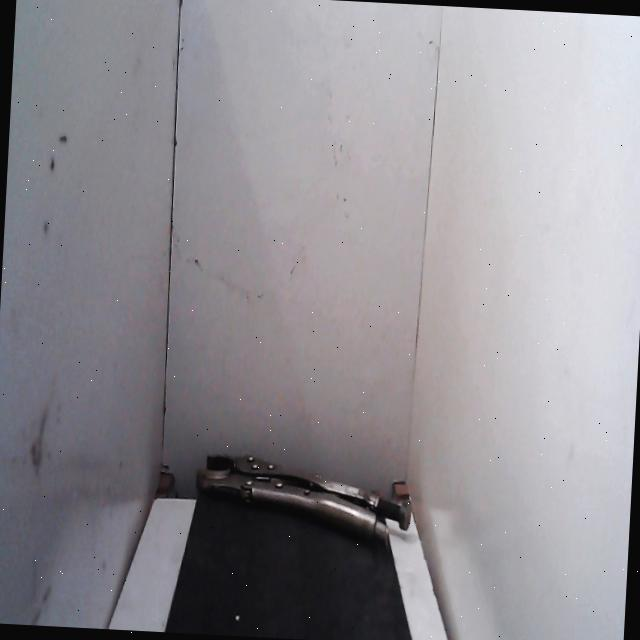metal: (176, 436, 422, 580)
